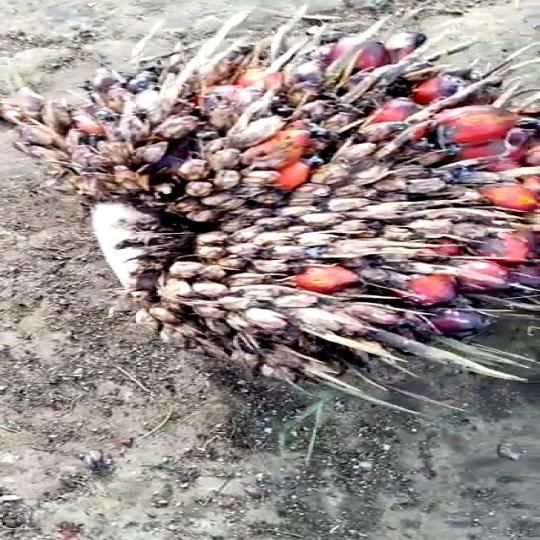masak: (0, 13, 540, 396)
